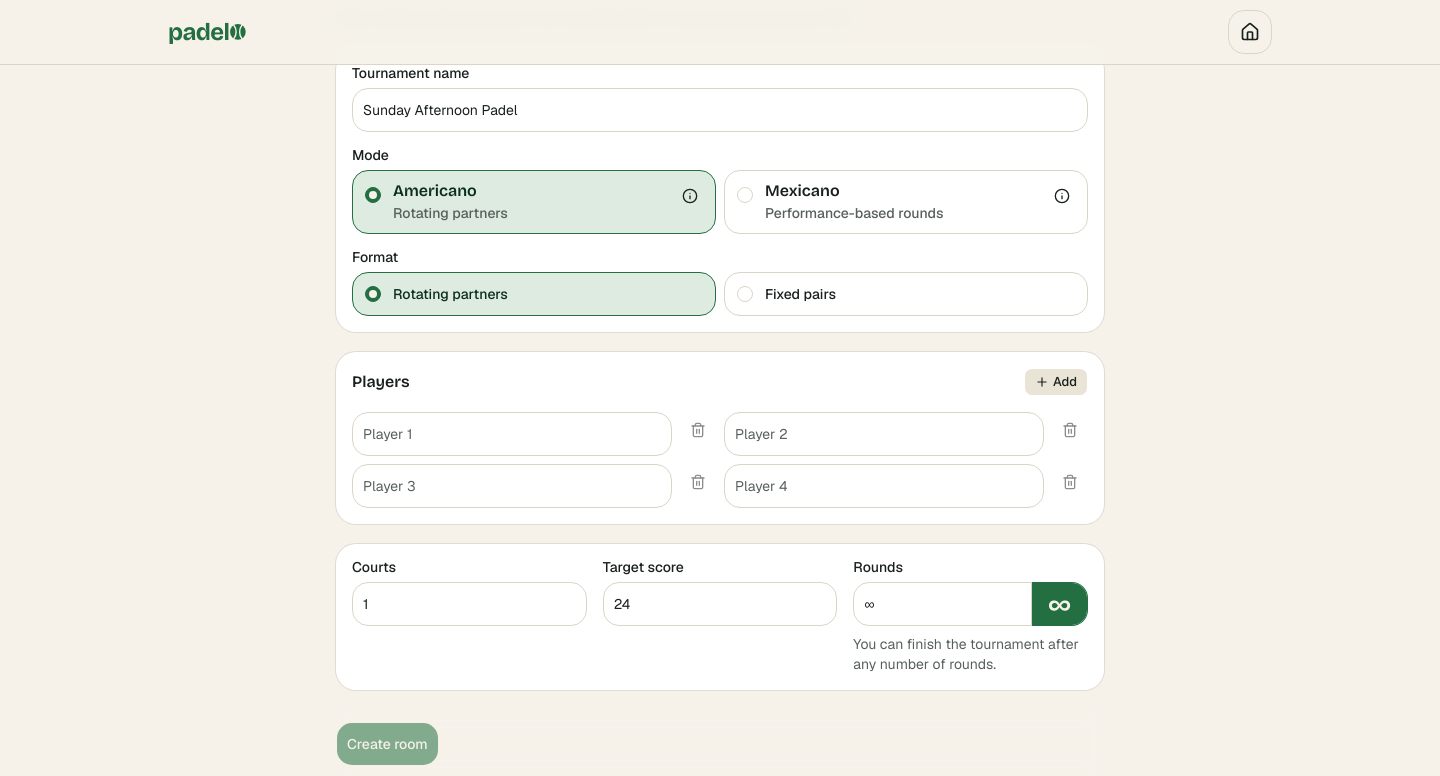
Test case: NewTournamentPage › explains why the room cannot be created when the form is incomplete
The width and height of the screenshot is (1440, 776).
(page scrolled)
Click the button "Create room": (387,744) 336,722 -> 439,766
(page scrolled)
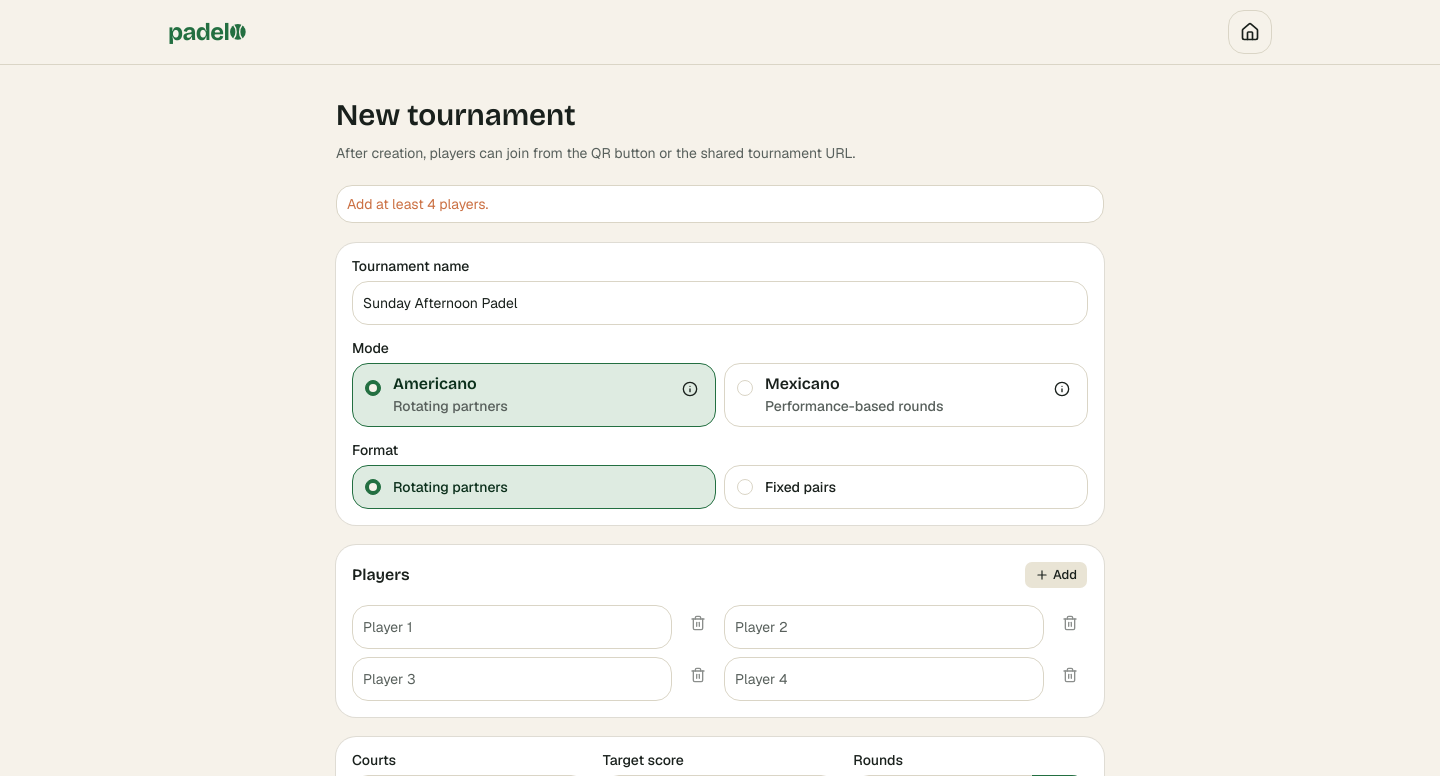
Now the text "Add at least 4 players." is shown, box 347,195 -> 488,213
